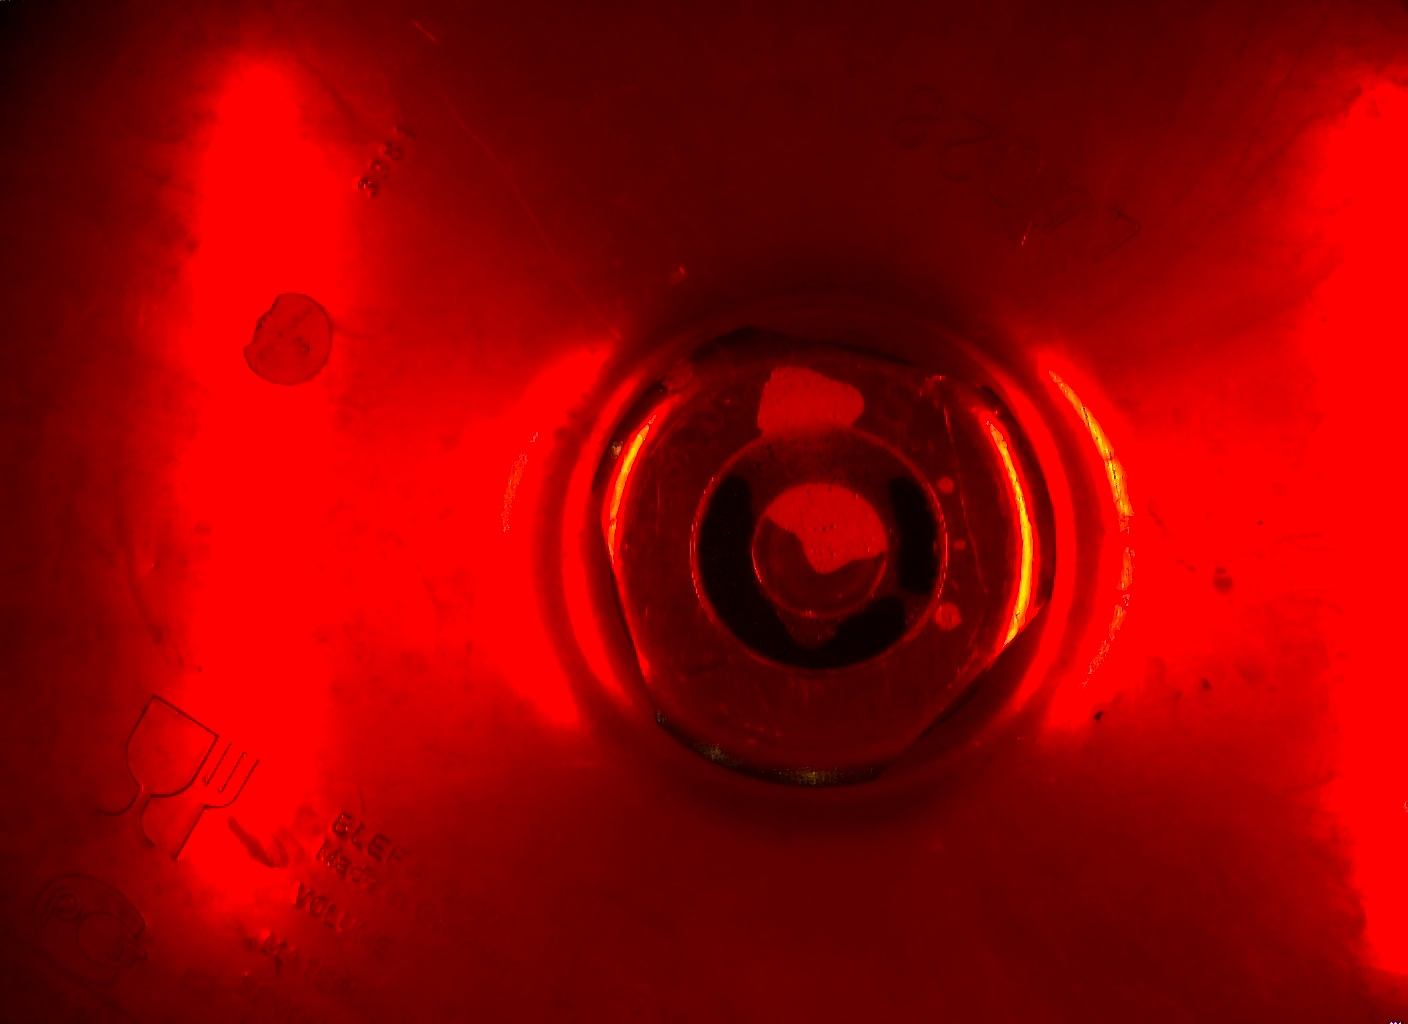pena: (734, 360, 897, 568), (865, 578, 976, 642), (761, 601, 845, 658)
